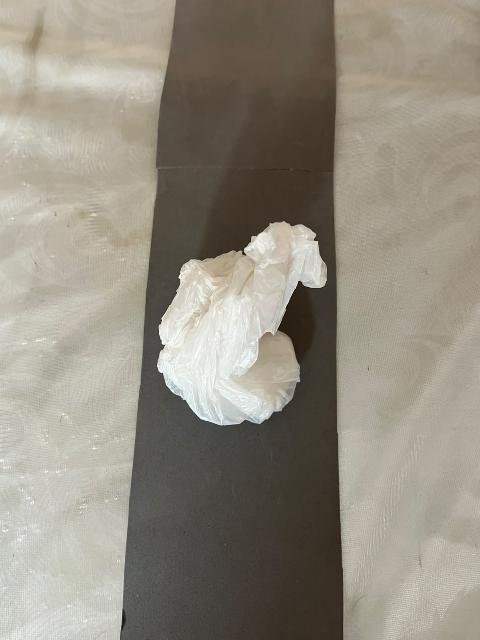LDPE: (91, 115, 403, 541)
